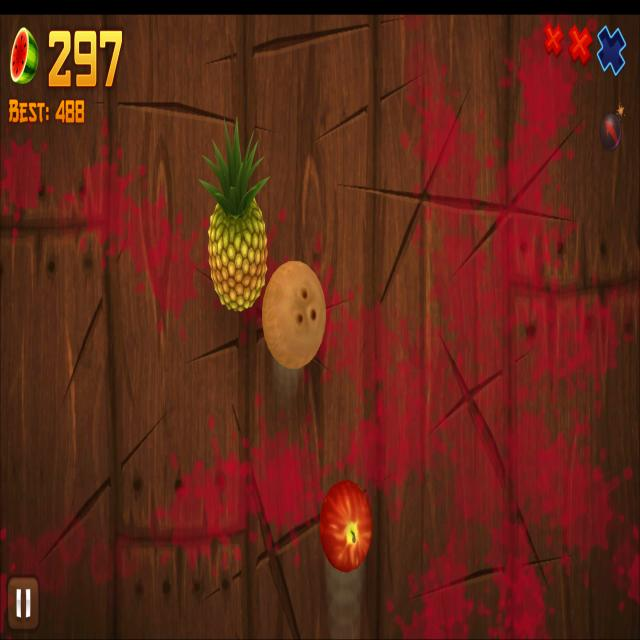fruit: (208, 191, 268, 311), (261, 260, 327, 369), (319, 479, 373, 573)
